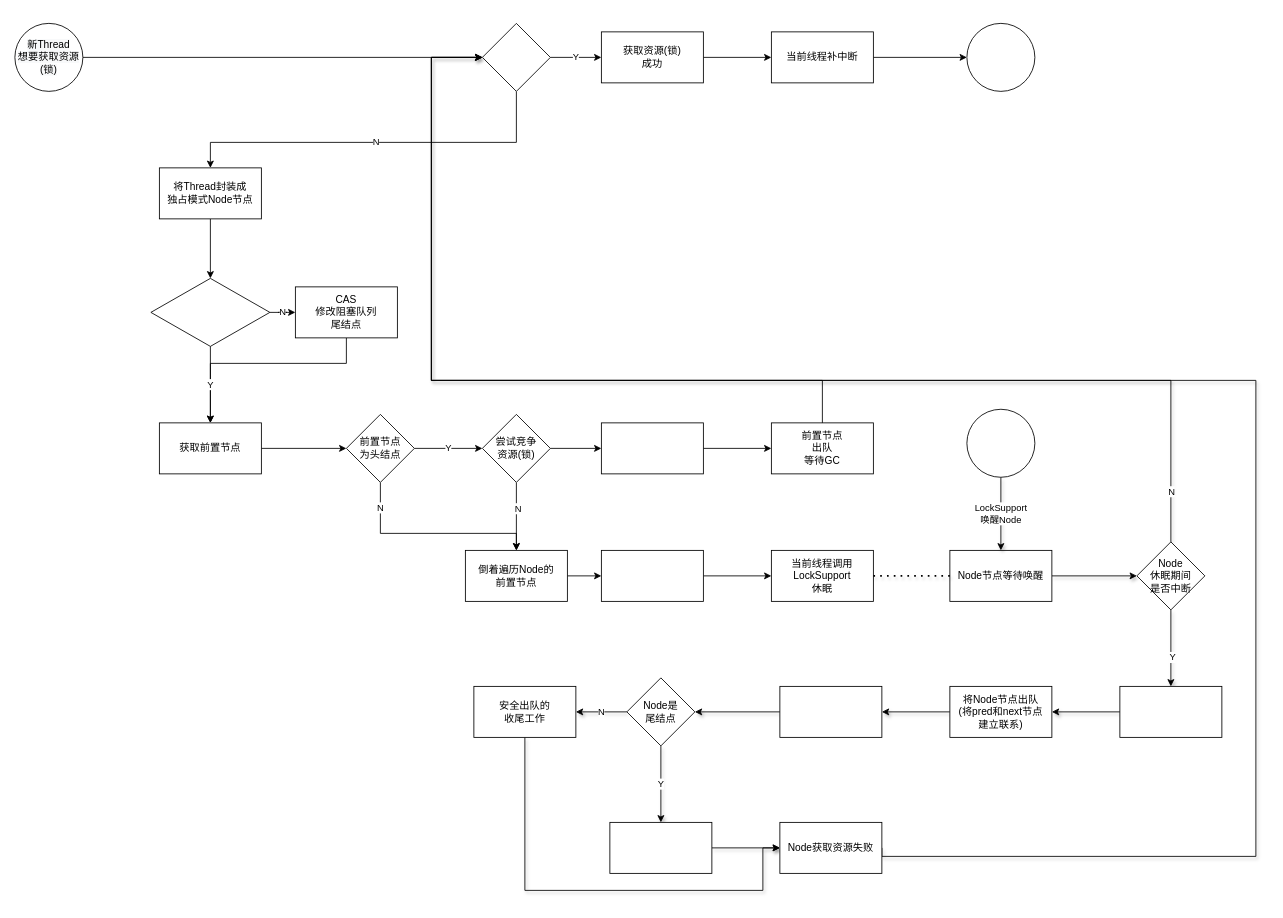
The diagram is 1283 pixels wide and 918 high, and some of its shapes have lost their labels. The shapes that lost their labels are listed below. From the top down, each one's centre as x and y in pixels, then its label:
At point (516, 57): "竞争资源".
At point (1000, 57): "执行业务代码 (需要中断处理)".
At point (210, 312): "尝试将Node 设置为阻塞队列 尾结点".
At point (652, 448): "将自己改为 阻塞队列 头结点".
At point (1000, 442): "前置节点 pred 释放资源".
At point (652, 575): "将所有CANCELLED 状态节点出队 所有非SIGNAL状态 节点改为SIGNAL".
At point (830, 711): "将Node节点状态 修改为CANCELLED".
At point (1170, 711): "CAS清空阻塞队列 排在自己前面的 CANCELLED 状态节点".
At point (660, 847): "将前置节点 设为尾结点".
